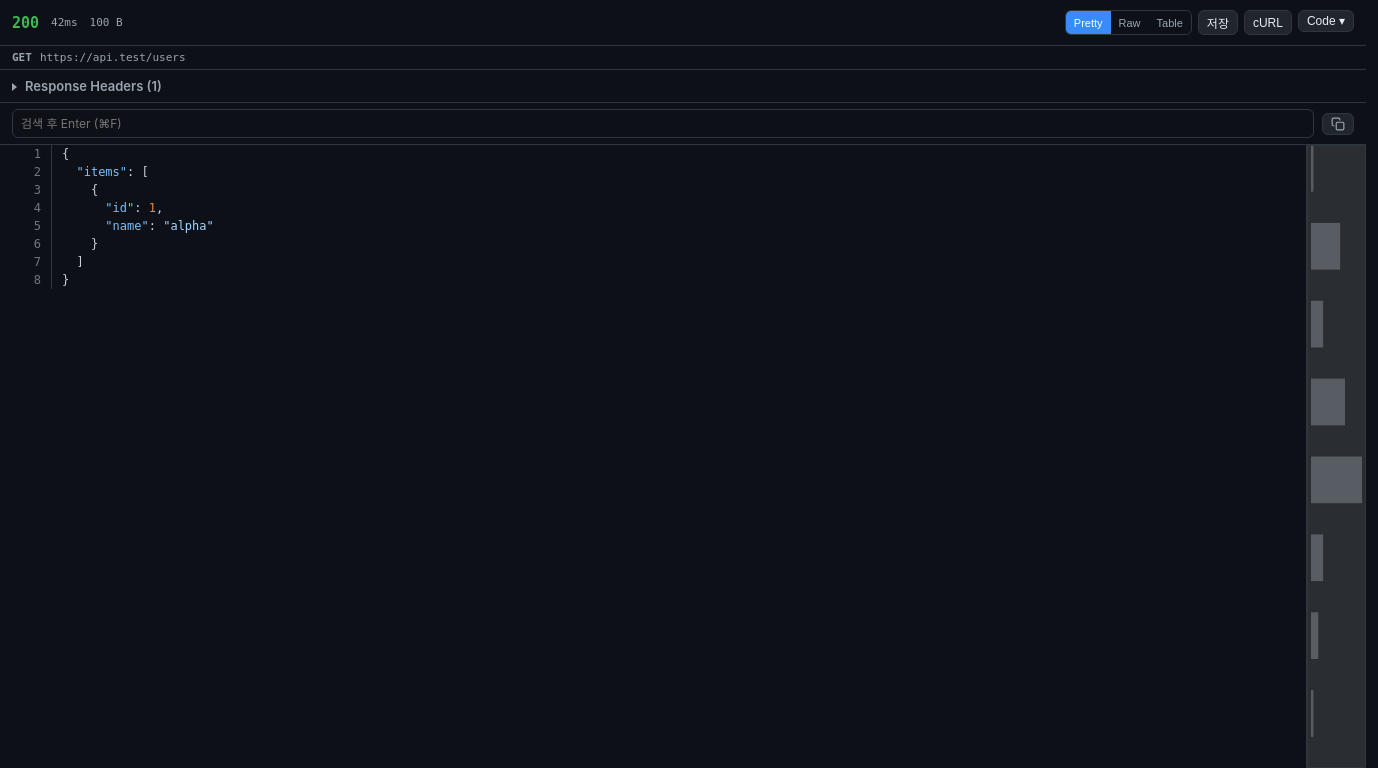
Test: ResponseView 뷰 모드 › Raw 모드는 원본 본문을 pre로 표시
This screenshot has width=1378, height=768.
Click the button "Raw".
click(1130, 22)  # box [1110,11,1148,34]
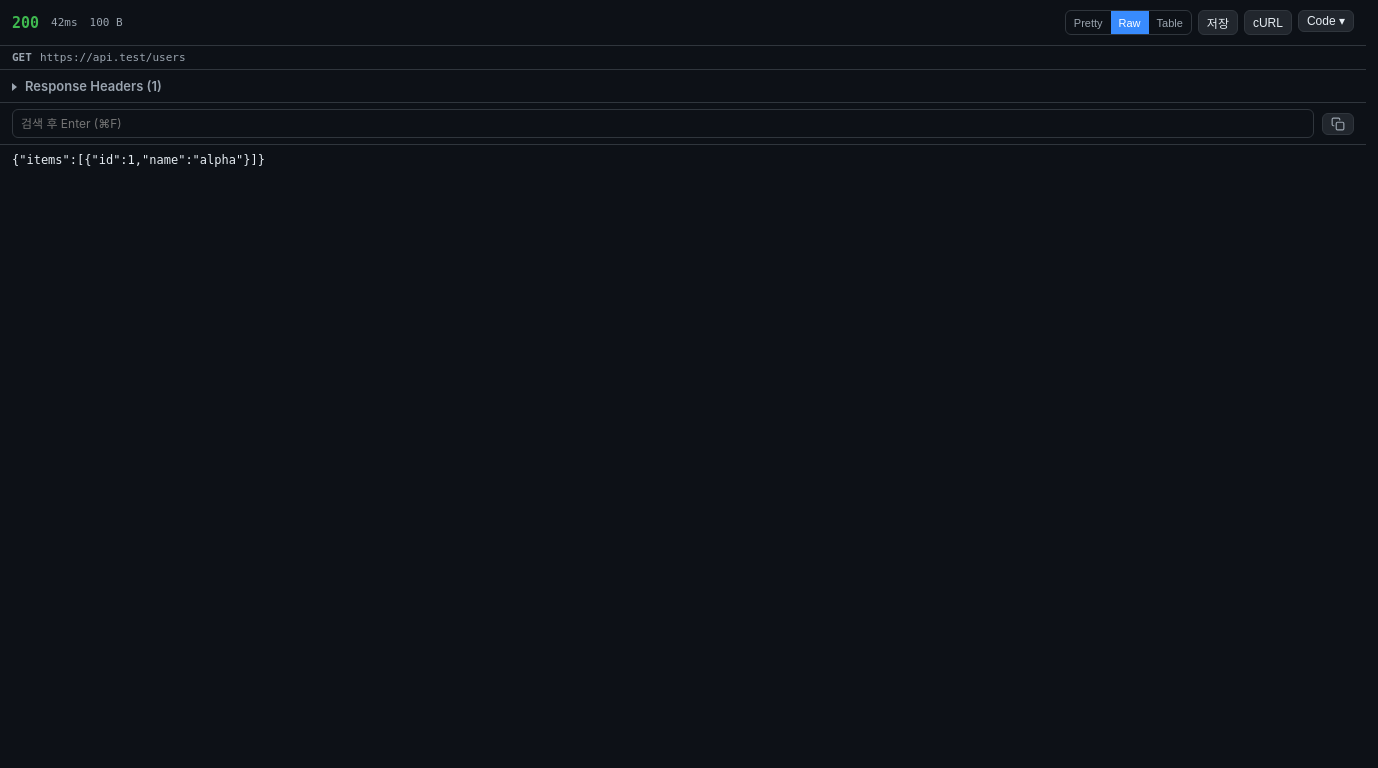
Expected: the text "{\"items\":[{\"id\":1,\"name\":\"alpha\"}]}" is shown, [12,153,265,167]
